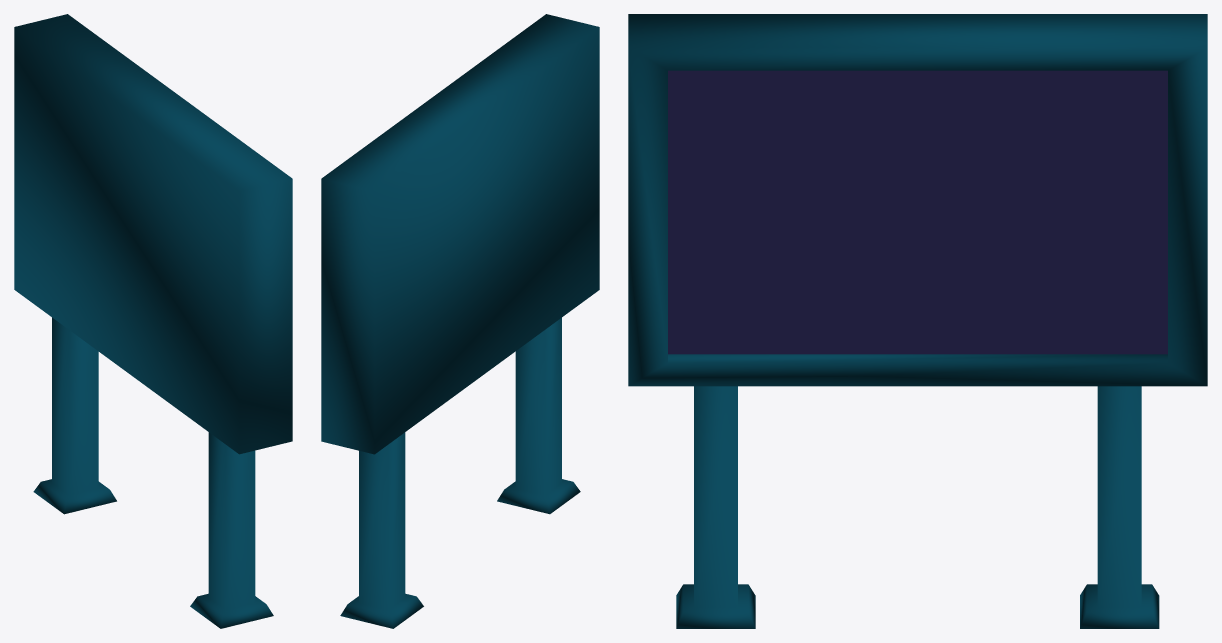
File: neo-city.glb
The picture shows the model from 3 angles, left to right: view 1: azimuth 30°, elevation 25°; view 2: azimuth 150°, elevation 25°; view 3: azimuth 270°, elevation 25°; orthographic projection. The views are drawn at different scales.
Visible parts, largest first — view 1: Cube.002, Cube, Cube.001; view 2: Cube.002, Cube.001, Cube; view 3: Cube.003, Cube.002, Cube.001, Cube.
Boxes of the visible parts, x1,y1,x2,y2 form: Cube.002: [14, 14, 292, 454]; Cube: [190, 432, 273, 628]; Cube.001: [33, 317, 116, 514]; Cube.002: [321, 14, 599, 454]; Cube.001: [340, 432, 423, 628]; Cube: [497, 317, 580, 514]; Cube.003: [668, 70, 1167, 354]; Cube.002: [628, 14, 1207, 386]; Cube.001: [1080, 386, 1159, 628]; Cube: [676, 386, 755, 628].
Bounding box in the file's own units: 2 × 16.19 × 14.62.
